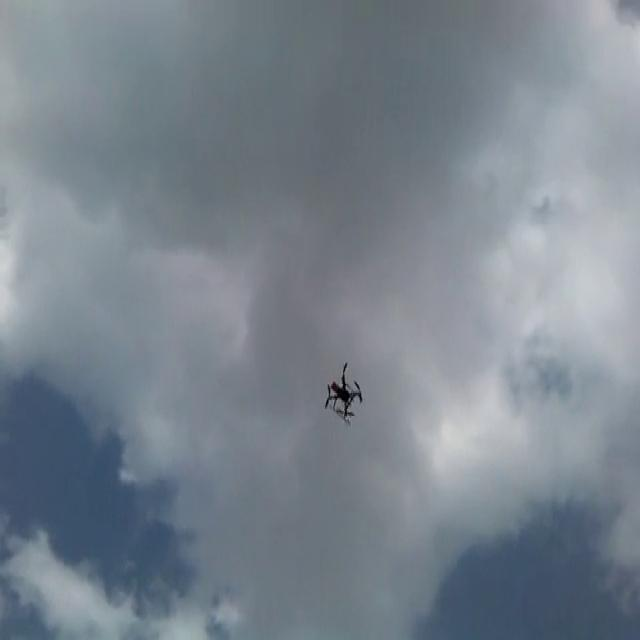drone: (320, 354, 365, 423)
